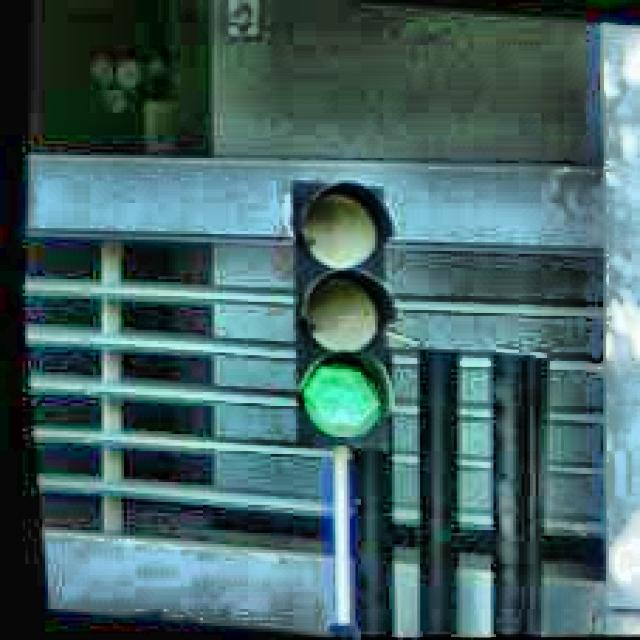green: (258, 177, 413, 456)
